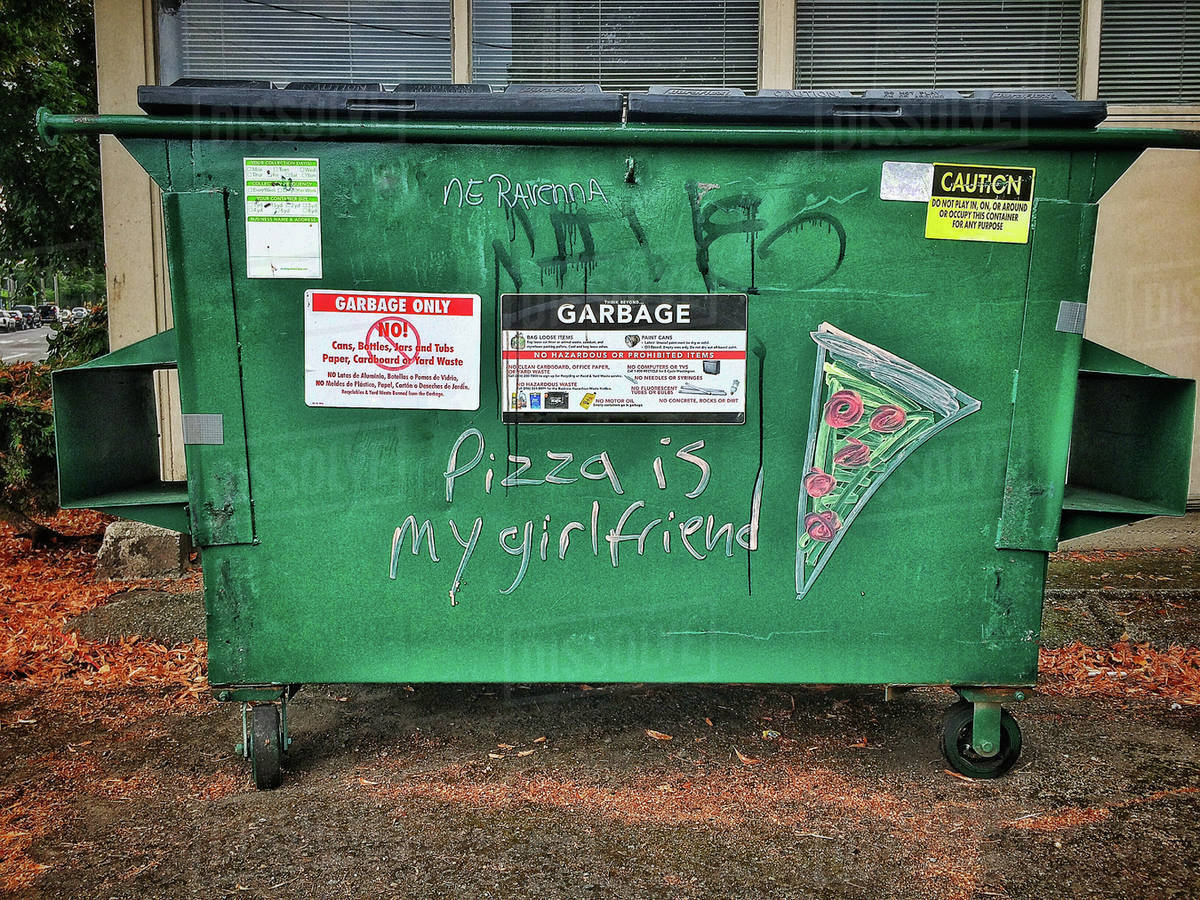Dumpster: (97, 43, 1127, 790)
